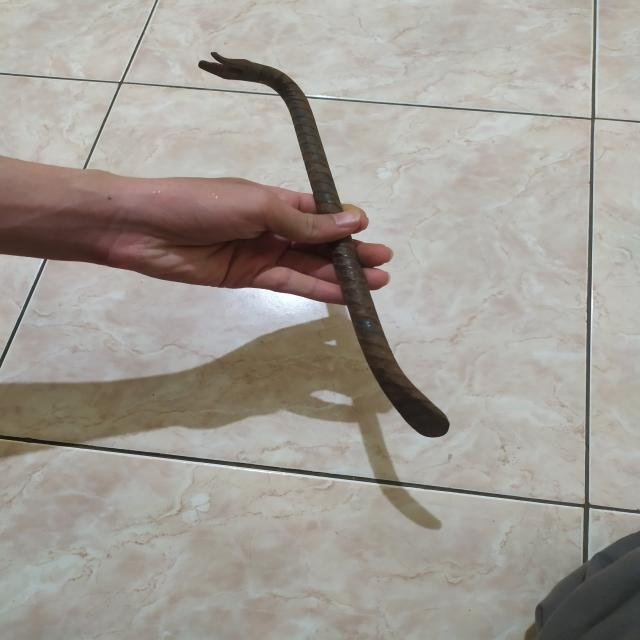Linggis: (195, 51, 451, 435)
